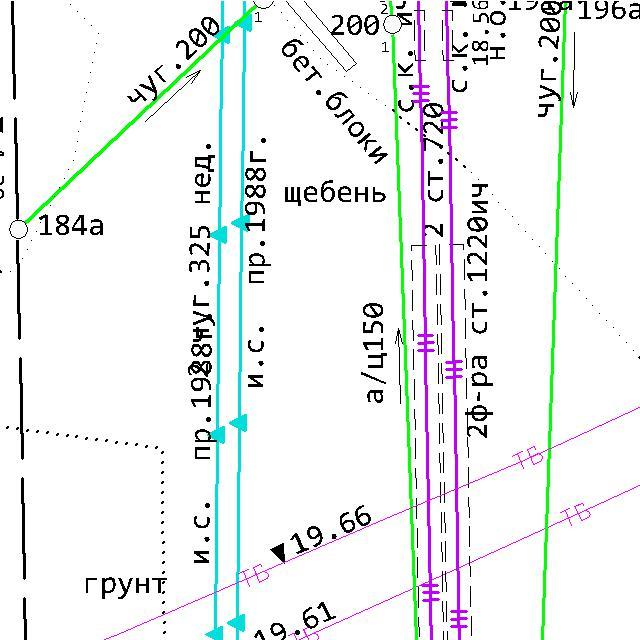mark: (267, 541, 288, 565)
well: (381, 13, 404, 36), (8, 218, 30, 242)
